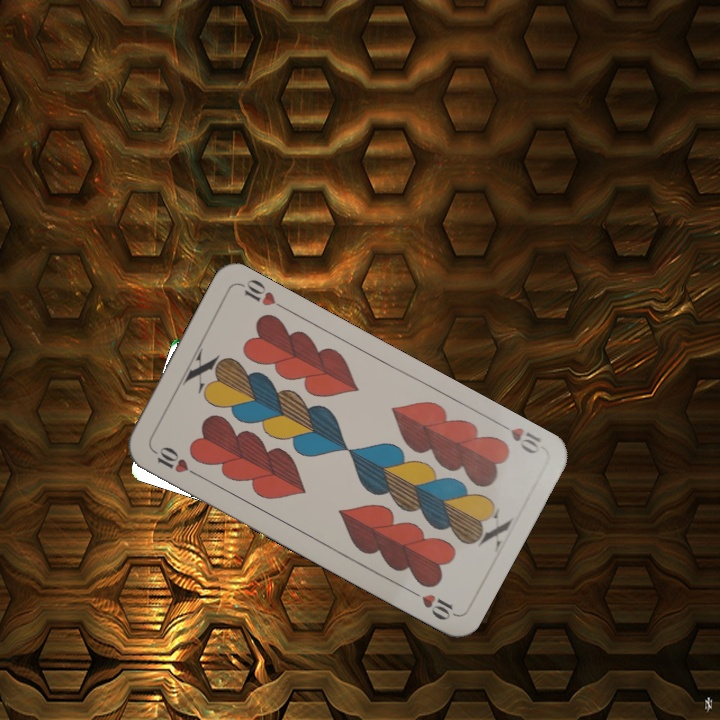H10: (492, 417, 544, 457), (147, 442, 202, 479)
